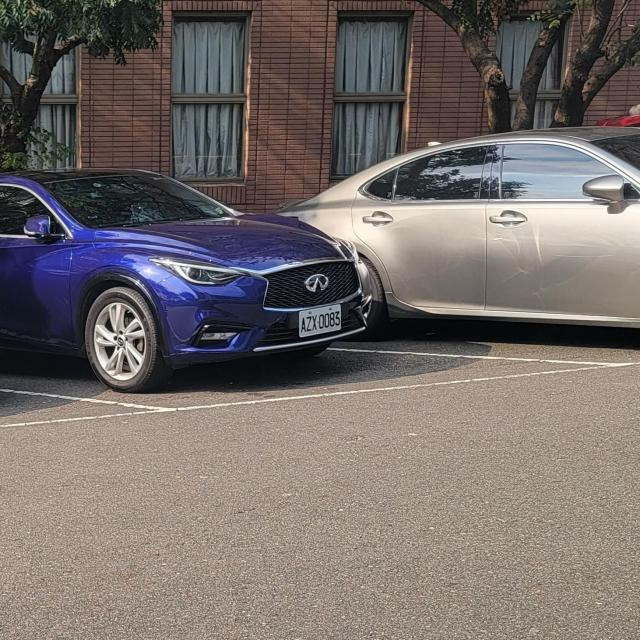W: (293, 303, 347, 340)
